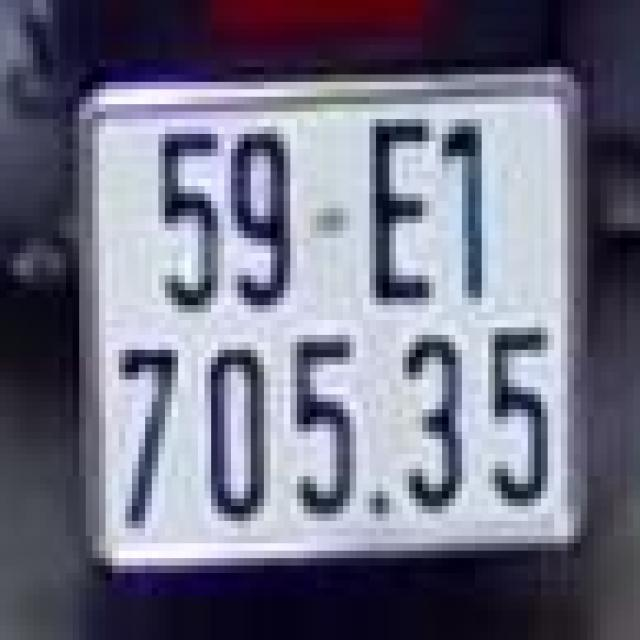0: (191, 335, 277, 536)
1: (439, 100, 505, 316)
3: (383, 312, 475, 514)
5: (152, 115, 231, 309), (287, 320, 360, 528), (485, 309, 551, 495)
7: (109, 316, 181, 532)
9: (231, 112, 297, 320)
E: (360, 116, 452, 316)
